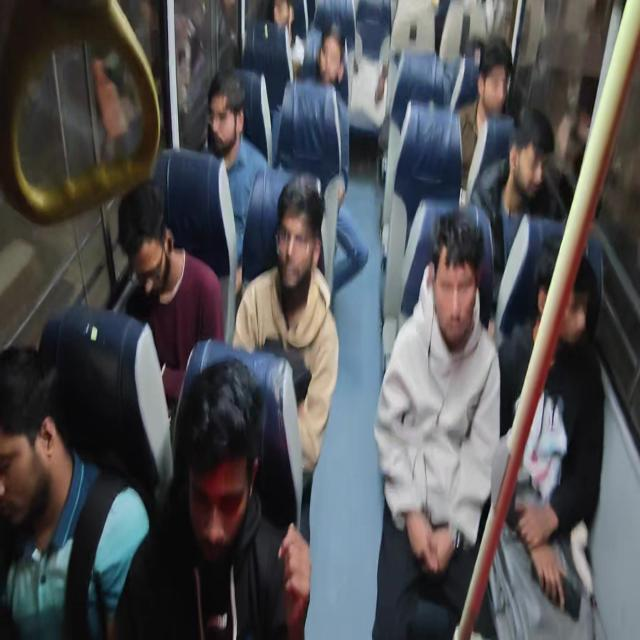person: (2, 2, 611, 637), (372, 209, 502, 638), (113, 358, 311, 638), (488, 241, 606, 638), (0, 343, 151, 638), (232, 175, 339, 476), (116, 178, 225, 414), (277, 23, 368, 291), (198, 70, 270, 282), (471, 105, 562, 268), (457, 34, 515, 202)
